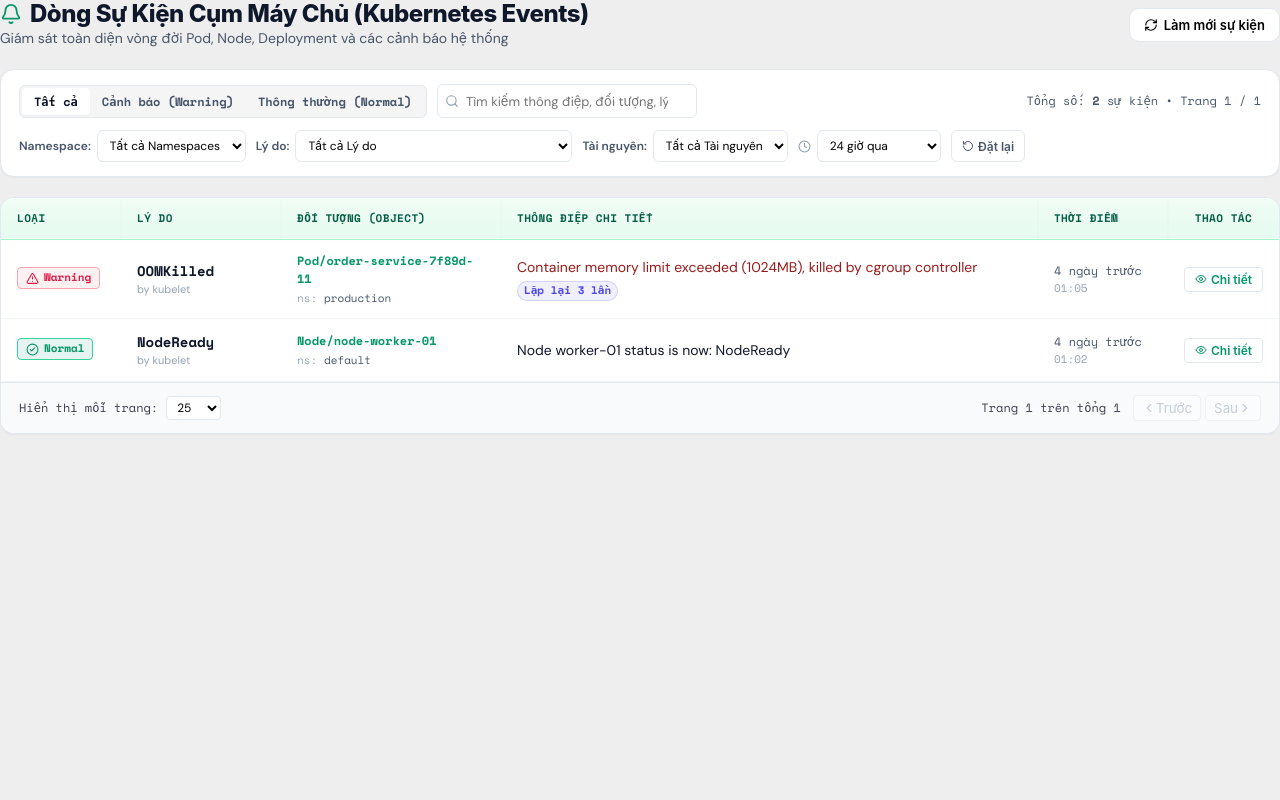
Test case: Task [S4][PB18] 4.1 – Kubernetes Events List & Filters UI Suite › 8. Event Detail Modal & Key Fields Rendering › 8.1. Clicking Chi tiết button on a row opens EventDetailModal
Click the button with test id "event-detail-btn-1". click: (1223, 279)
box: [1184,266,1263,292]
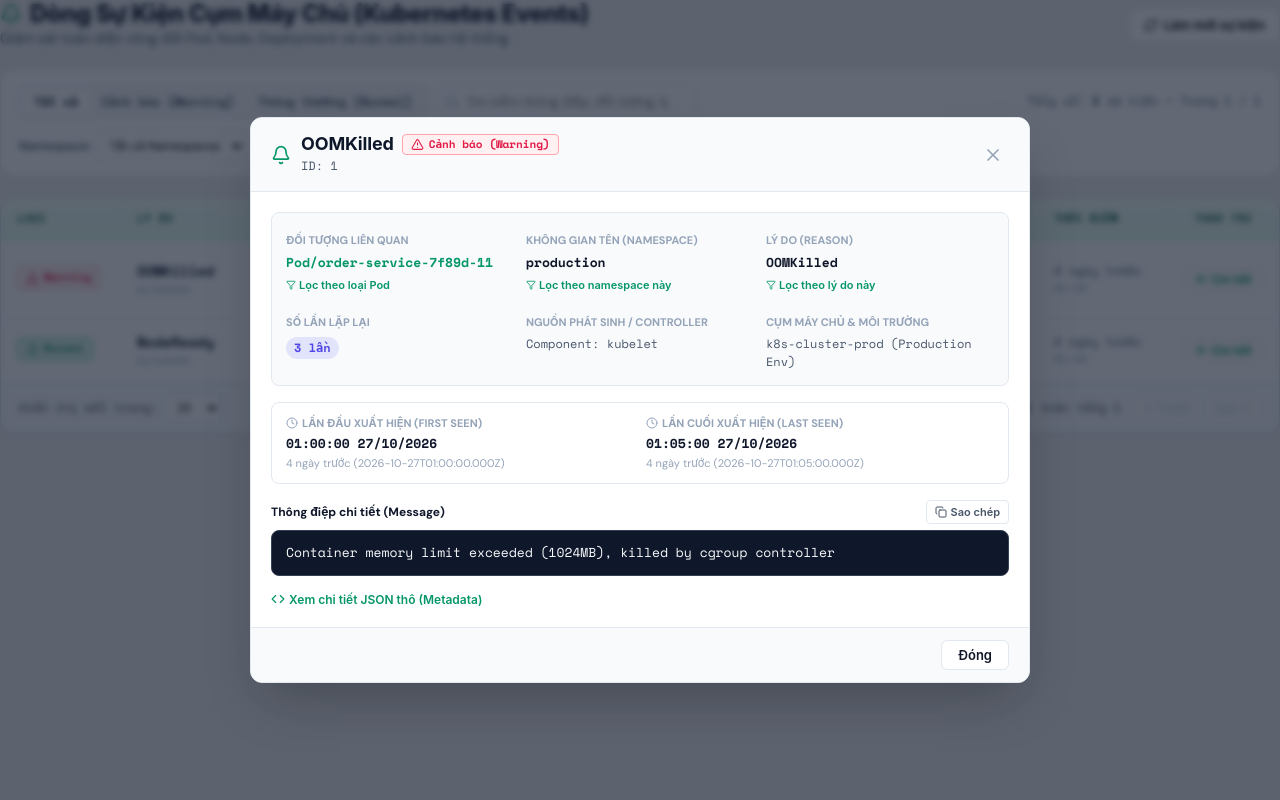
Now the dialog with test id "event-detail-modal-backdrop" is shown
Now the dialog is shown
Now the heading "OOMKilled" is shown, box [301,134,394,155]
